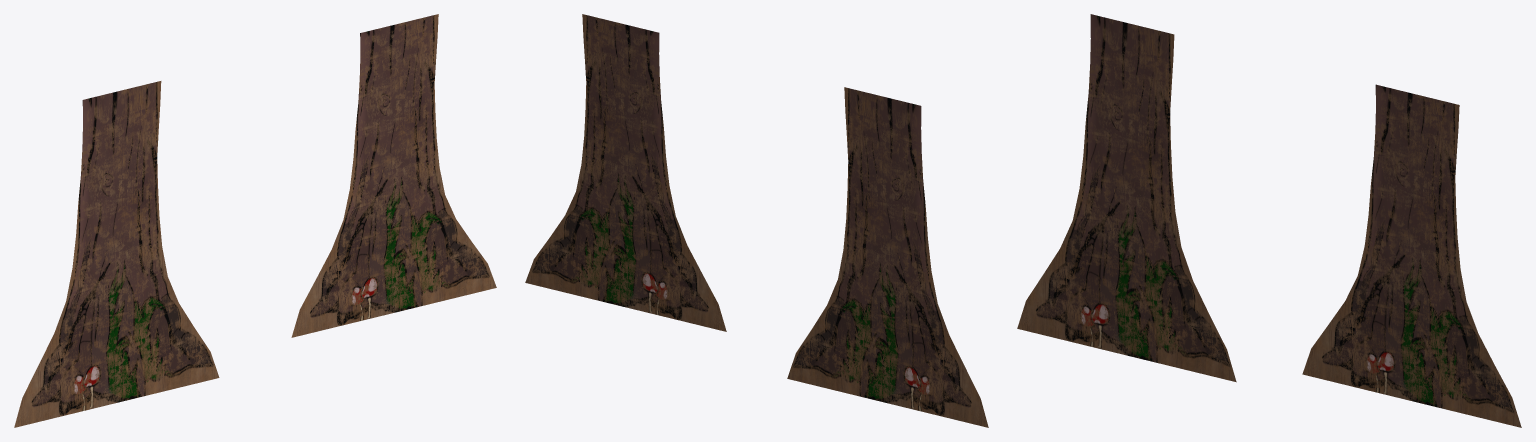
The model's file is ArbolesFondo_Medio.fbx.
The picture shows the model from 3 angles, left to right: view 1: azimuth 30°, elevation 25°; view 2: azimuth 150°, elevation 25°; view 3: azimuth 330°, elevation 25°; orthographic projection. The views are drawn at different scales.
Parts seen in each view (by area): view 1: Arbol_04, Arbol_03; view 2: Arbol_04, Arbol_03; view 3: Arbol_04, Arbol_03.
Part boxes in pixels (left/top/right/bottom): Arbol_04: left=14, top=81, right=219, bottom=427; Arbol_03: left=291, top=14, right=496, bottom=337; Arbol_04: left=787, top=87, right=988, bottom=427; Arbol_03: left=525, top=14, right=726, bottom=331; Arbol_04: left=1017, top=14, right=1236, bottom=382; Arbol_03: left=1302, top=84, right=1521, bottom=427.
Size of the model in its own units: 1144 by 722 by 21.8.
Materials: 2 (2 with a texture image).
